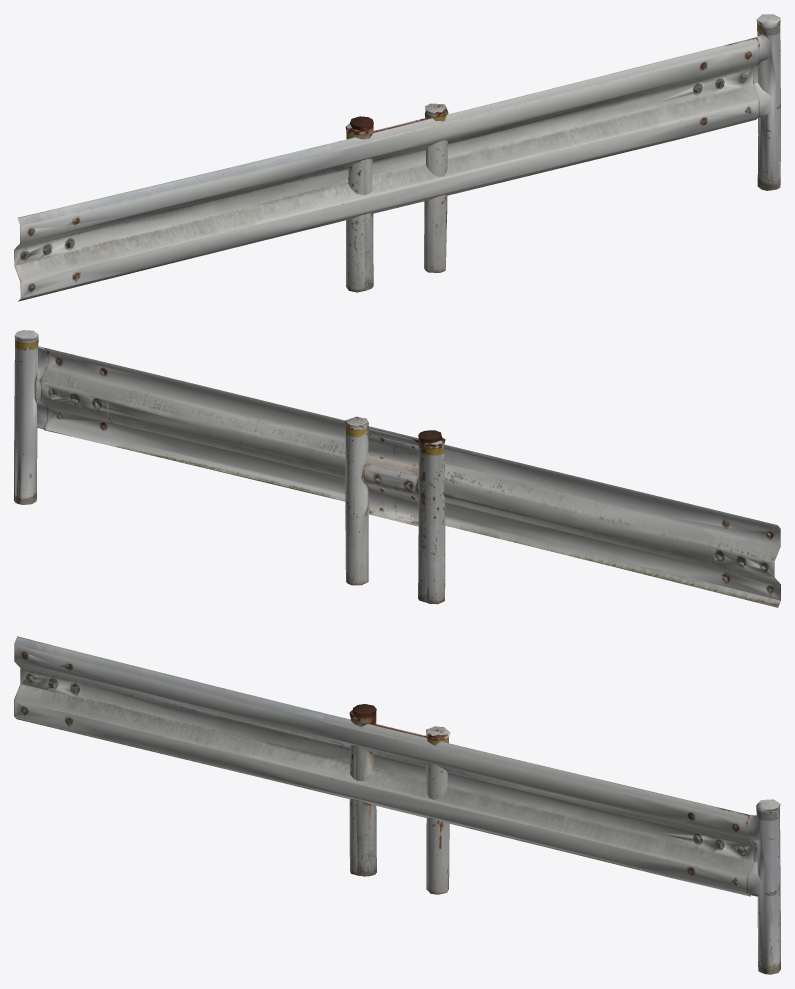
File: SM_GongLuLan.glb
3 renders of one model, top to bottom at view 1: azimuth 30°, elevation 25°; view 2: azimuth 150°, elevation 25°; view 3: azimuth 330°, elevation 25°, orthographic.
Visible parts, largest first — view 1: SM_GongLuLanX, SM_GongLuLanY1, SM_GongLuLanY2; view 2: SM_GongLuLanX, SM_GongLuLanY1, SM_GongLuLanY2; view 3: SM_GongLuLanX, SM_GongLuLanY1, SM_GongLuLanY2.
Part boxes in pixels (<box>): SM_GongLuLanX: <box>14,14,780,301</box>; SM_GongLuLanY1: <box>345,103,448,292</box>; SM_GongLuLanY2: <box>350,116,429,290</box>; SM_GongLuLanX: <box>14,330,780,607</box>; SM_GongLuLanY1: <box>344,416,445,604</box>; SM_GongLuLanY2: <box>361,428,442,602</box>; SM_GongLuLanX: <box>14,636,780,974</box>; SM_GongLuLanY1: <box>349,709,450,894</box>; SM_GongLuLanY2: <box>352,704,426,876</box>.
Bounding box in the file's own units: 3.42 × 0.7296 × 0.1137.
Materials: 1 (1 with a texture image).
